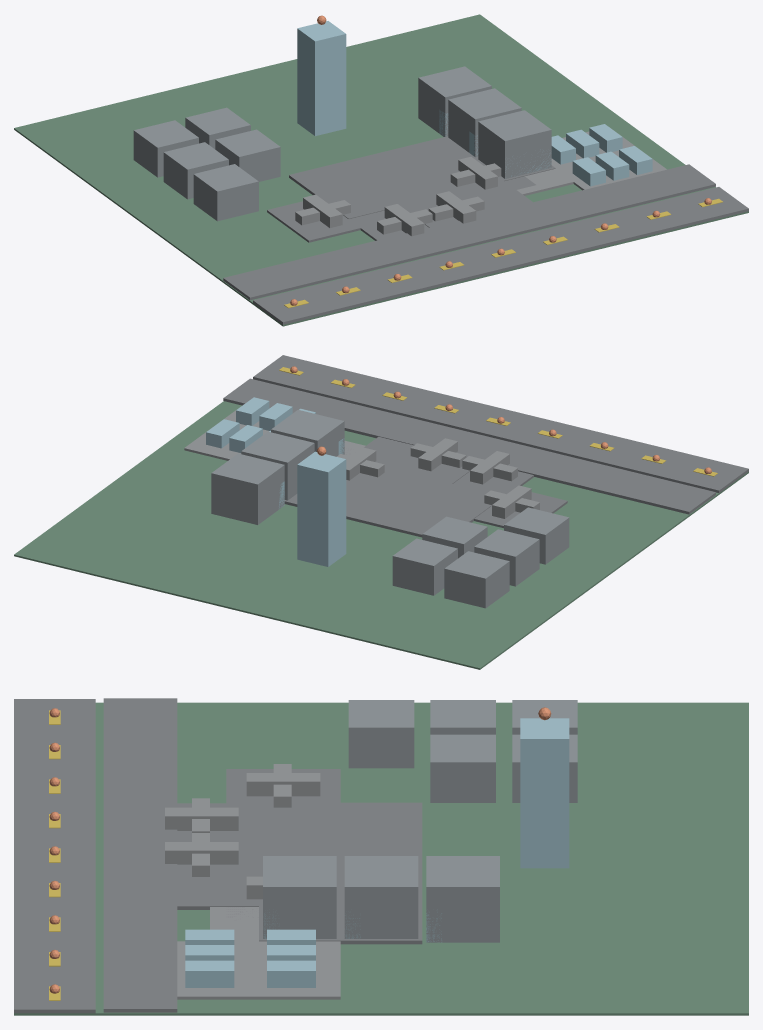
Rendered from stage_21.glb.
3 renders of one model, top to bottom at view 1: azimuth 30°, elevation 25°; view 2: azimuth 150°, elevation 25°; view 3: azimuth 270°, elevation 25°, orthographic. The views are drawn at different scales.
Visible parts, largest first — view 1: geometry_0; view 2: geometry_0; view 3: geometry_0.
Boxes of the visible parts, bbox=[...] form: geometry_0: bbox=[14, 14, 748, 326]; geometry_0: bbox=[14, 355, 748, 669]; geometry_0: bbox=[14, 698, 748, 1015].
Bounding box in the file's own units: 9 × 2.06 × 9.
